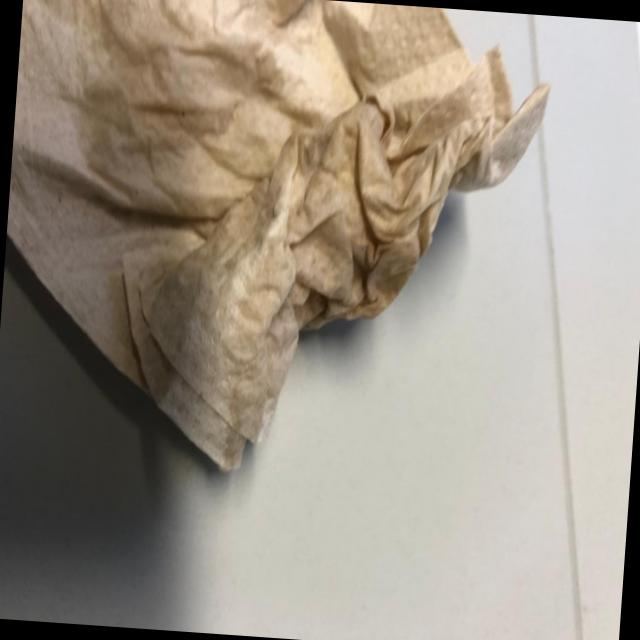organic waste: (0, 0, 558, 491)
